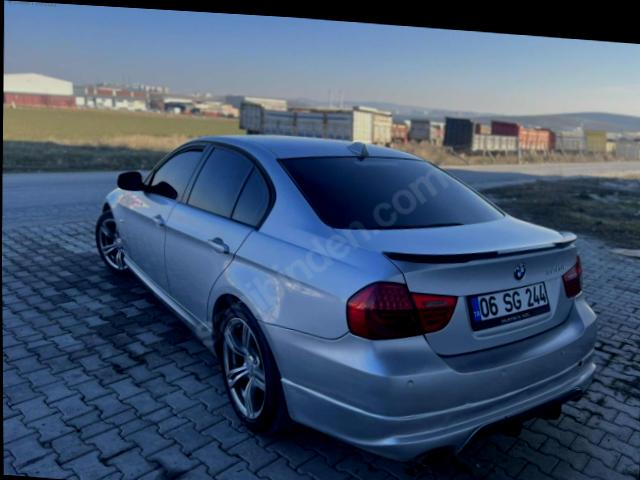plaka: (469, 282, 550, 330)
